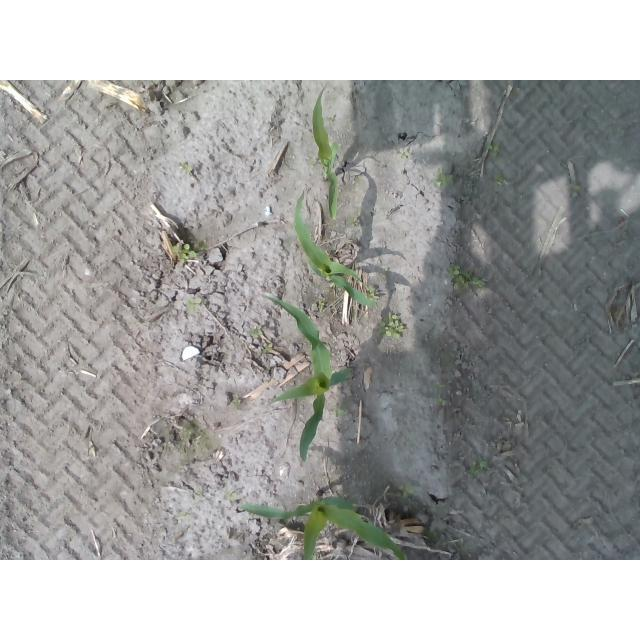Maize: (267, 295, 353, 466), (290, 185, 382, 311), (237, 492, 403, 561), (313, 83, 344, 220)
Weeds: (449, 267, 491, 290), (376, 313, 406, 339), (171, 239, 198, 263), (471, 455, 489, 473), (434, 171, 454, 187), (398, 483, 415, 498), (187, 297, 201, 312), (485, 143, 499, 158), (366, 286, 379, 299), (337, 406, 352, 416), (182, 424, 191, 440), (248, 327, 262, 337), (435, 398, 449, 407), (180, 161, 192, 171), (495, 174, 506, 184), (318, 300, 325, 313), (232, 397, 241, 407), (261, 347, 268, 353)
